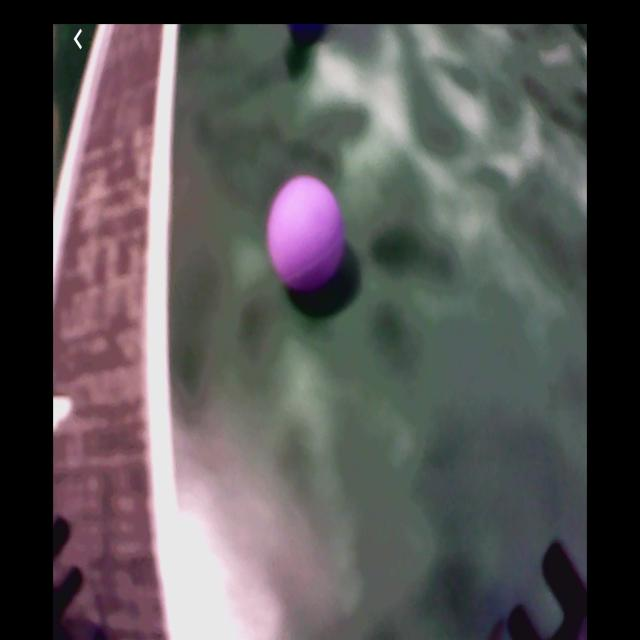ball: (268, 176, 345, 295)
